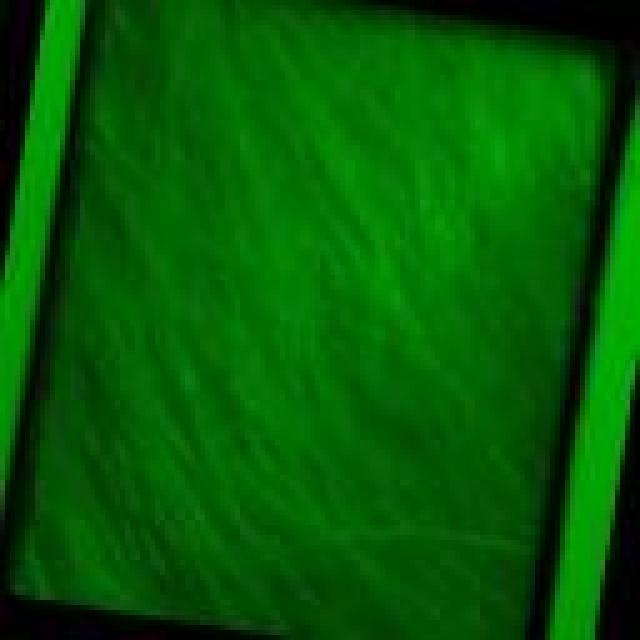fungal-infection: (15, 0, 615, 640)
